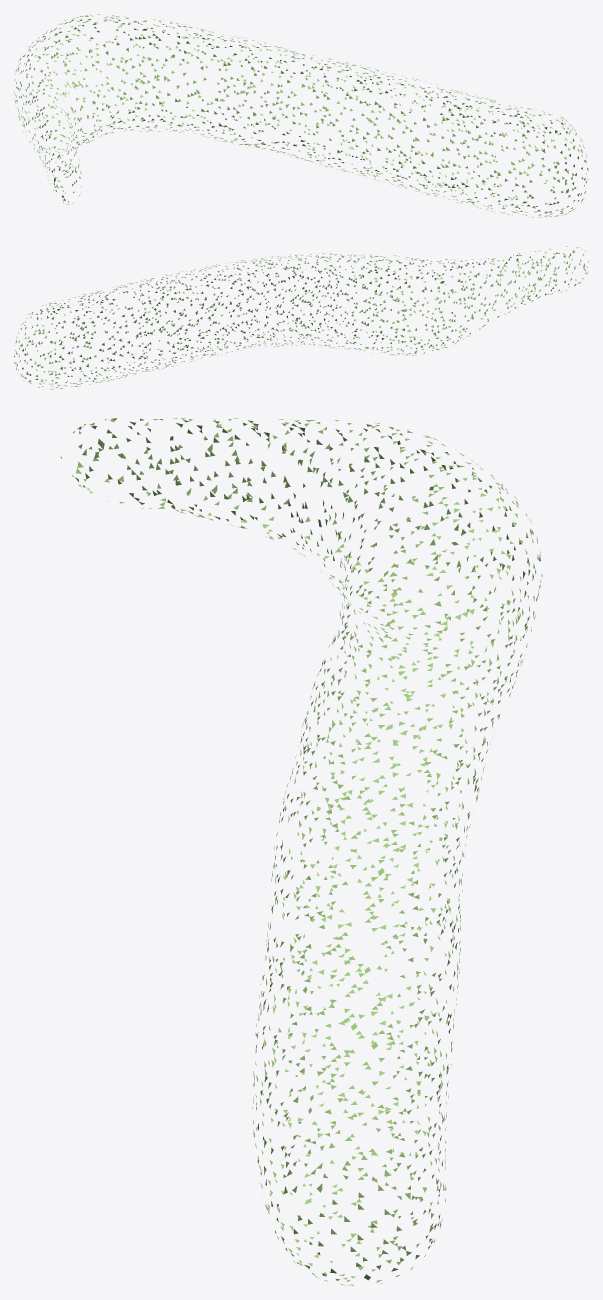
Rendered from morph_013.glb.
3 renders of one model, top to bottom at view 1: azimuth 30°, elevation 25°; view 2: azimuth 150°, elevation 25°; view 3: azimuth 270°, elevation 25°, orthographic. The views are drawn at different scales.
Size of the model in its own units: 125 by 55.61 by 52.88.
